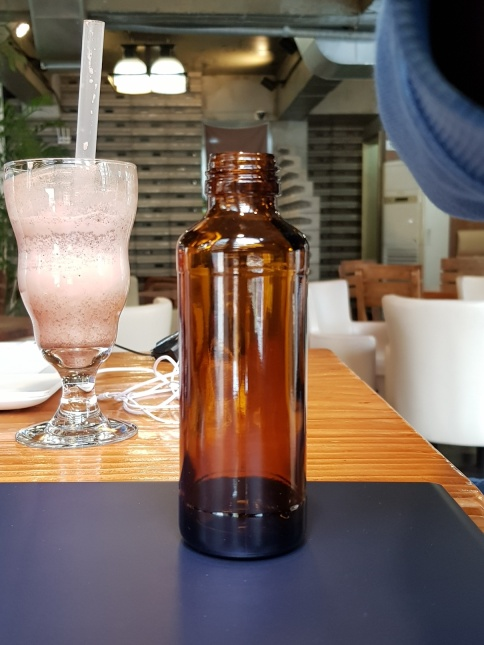Glass: (172, 147, 311, 567)
